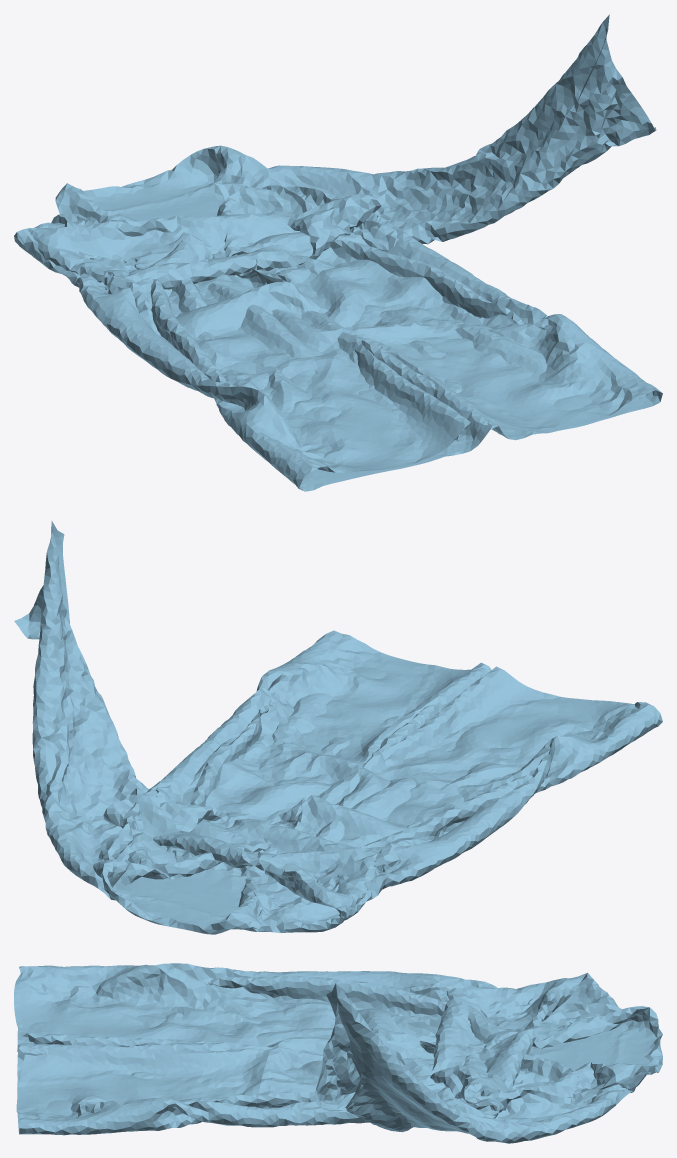
File: frame_05.glb
3 renders of one model, top to bottom at view 1: azimuth 30°, elevation 25°; view 2: azimuth 150°, elevation 25°; view 3: azimuth 270°, elevation 25°, orthographic. The views are drawn at different scales.
Visible parts, largest first — view 1: frame_05.obj; view 2: frame_05.obj; view 3: frame_05.obj.
Part boxes in pixels (box(x1,y1,x2,y2)): frame_05.obj: box(14, 14, 662, 491); frame_05.obj: box(14, 521, 662, 934); frame_05.obj: box(14, 963, 662, 1143).
Bounding box in the file's own units: 1.4 × 0.5904 × 1.65.
